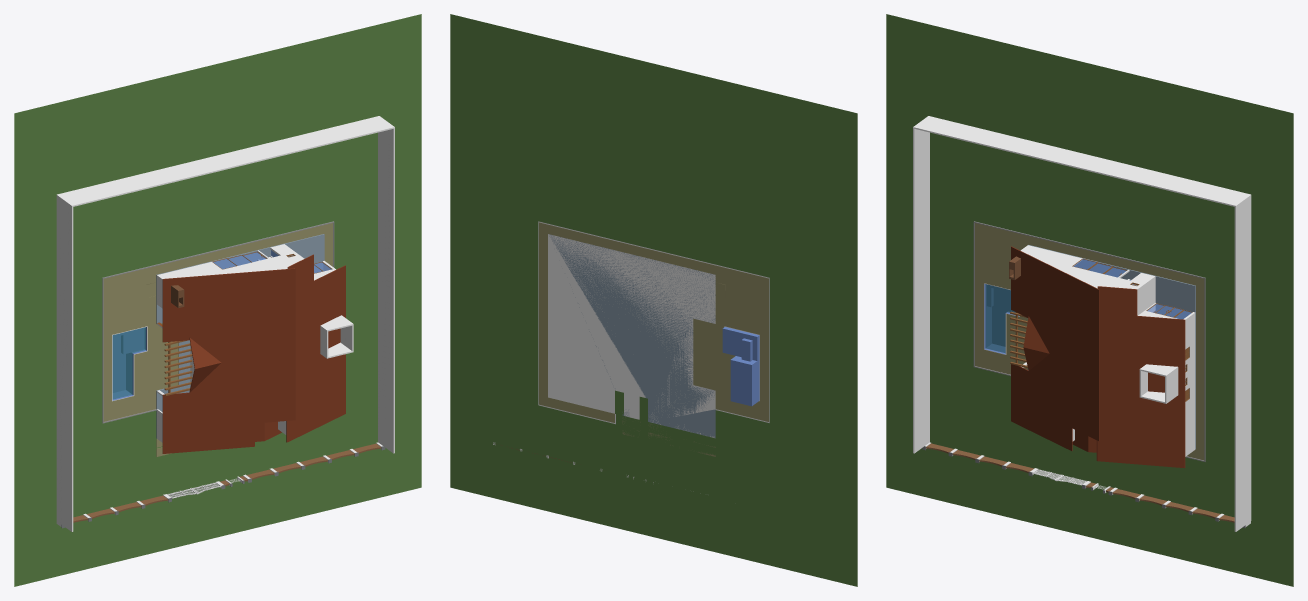
The model's file is Proj. Arquitetonico.obj.
The picture shows the model from 3 angles, left to right: view 1: azimuth 30°, elevation 25°; view 2: azimuth 150°, elevation 25°; view 3: azimuth 330°, elevation 25°; orthographic projection.
Visible parts, largest first — view 1: Mesh37 Group15 Model, Mesh115 Group50 Group49 Model, Mesh595 Model, Mesh118 Group53 Group49 Model, Mesh190 skp552F1 Model, Mesh125 Group62 Model, Mesh108 Group46 Model; view 2: Mesh37 Group15 Model, Mesh125 Group62 Model, Mesh108 Group46 Model; view 3: Mesh37 Group15 Model, Mesh595 Model, Mesh115 Group50 Group49 Model, Mesh118 Group53 Group49 Model, Mesh190 skp552F1 Model, Mesh125 Group62 Model, Mesh108 Group46 Model.
Part boxes in pixels (x1,y1,x2,y2): Mesh37 Group15 Model: [14, 14, 421, 586]; Mesh115 Group50 Group49 Model: [162, 268, 295, 453]; Mesh595 Model: [56, 116, 394, 531]; Mesh118 Group53 Group49 Model: [286, 254, 345, 442]; Mesh190 skp552F1 Model: [157, 244, 353, 442]; Mesh125 Group62 Model: [156, 234, 324, 438]; Mesh108 Group46 Model: [112, 326, 147, 401]; Mesh37 Group15 Model: [450, 14, 857, 586]; Mesh125 Group62 Model: [549, 234, 715, 437]; Mesh108 Group46 Model: [722, 326, 759, 406]; Mesh37 Group15 Model: [886, 14, 1293, 586]; Mesh595 Model: [913, 116, 1251, 531]; Mesh115 Group50 Group49 Model: [1011, 246, 1099, 450]; Mesh118 Group53 Group49 Model: [1096, 286, 1185, 468]; Mesh190 skp552F1 Model: [1020, 245, 1195, 456]; Mesh125 Group62 Model: [1028, 245, 1195, 449]; Mesh108 Group46 Model: [984, 283, 1019, 354].
Bounding box in the file's own units: 45.87 × 50.96 × 8.19.
